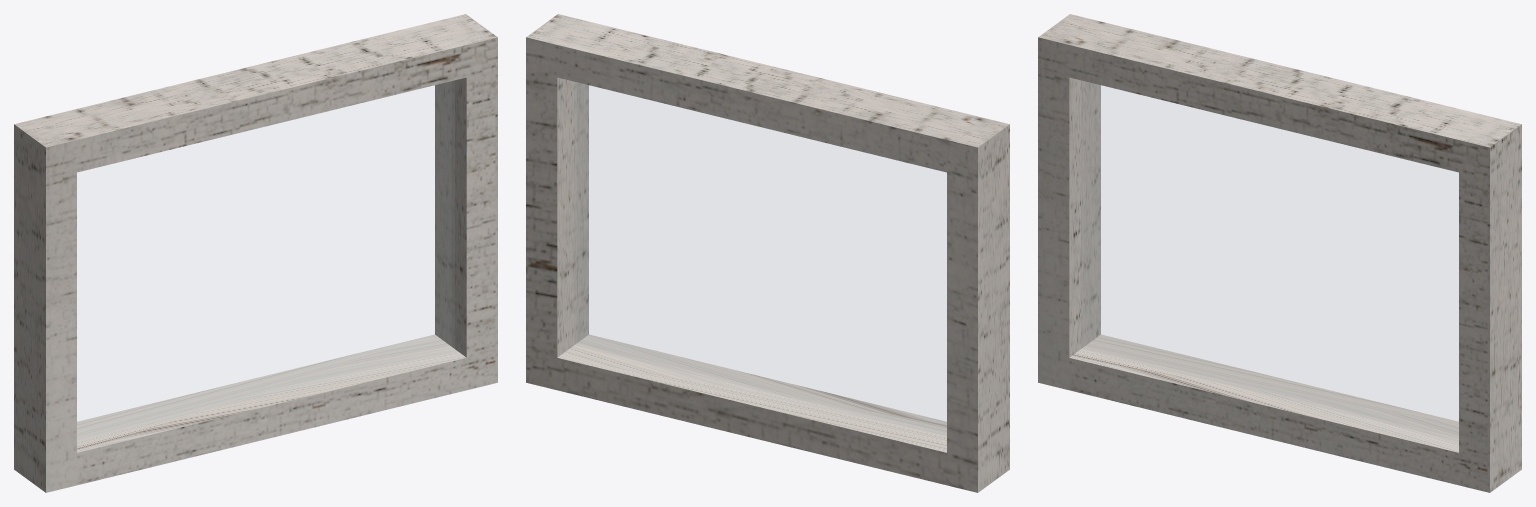
Rendered from WindowAndFrame.glb.
3 renders of one model, left to right at view 1: azimuth 30°, elevation 25°; view 2: azimuth 150°, elevation 25°; view 3: azimuth 330°, elevation 25°, orthographic.
Visible parts, largest first — view 1: window, window frame; view 2: window, window frame; view 3: window, window frame.
Boxes of the visible parts, left/top/right/bottom form: window: left=77, top=81, right=454, bottom=439; window frame: left=14, top=14, right=497, bottom=492; window: left=577, top=83, right=946, bottom=435; window frame: left=526, top=14, right=1009, bottom=492; window: left=1081, top=82, right=1458, bottom=439; window frame: left=1038, top=14, right=1521, bottom=492.
Bounding box in the file's own units: 3.83 × 2.8 × 0.468.
2 materials, 1 textured.
